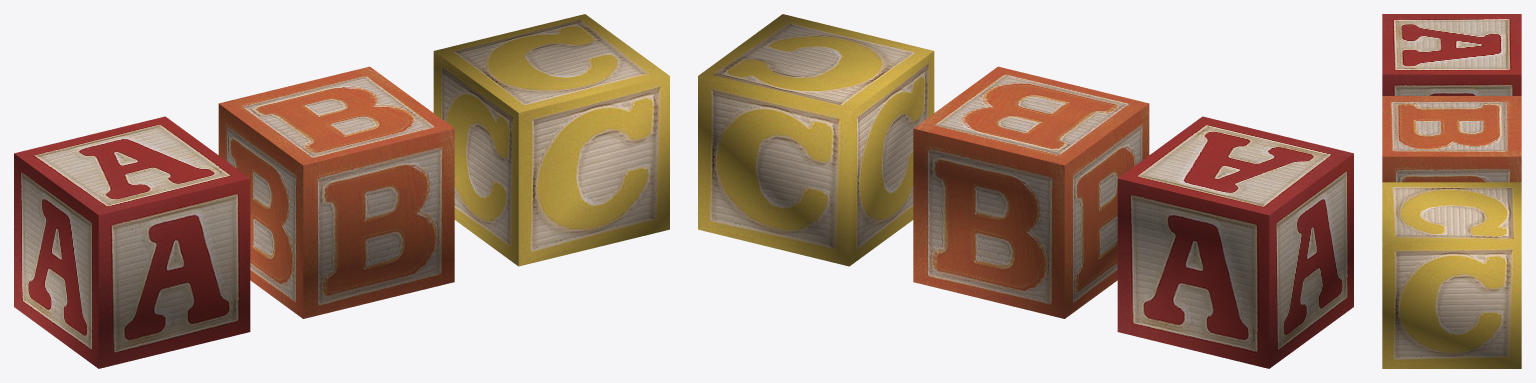
The model's file is toy_blocks.fbx.
The picture shows the model from 3 angles, left to right: view 1: azimuth 30°, elevation 25°; view 2: azimuth 150°, elevation 25°; view 3: azimuth 270°, elevation 25°; orthographic projection. The views are drawn at different scales.
Parts seen in each view (by area): view 1: toy_block_A, toy_block_C, toy_block_B; view 2: toy_block_A, toy_block_C, toy_block_B; view 3: toy_block_C, toy_block_B, toy_block_A.
Part boxes in pixels (<box>): toy_block_A: <box>14,116,250,368</box>; toy_block_C: <box>433,14,669,266</box>; toy_block_B: <box>218,66,454,318</box>; toy_block_A: <box>1117,116,1353,368</box>; toy_block_C: <box>698,14,934,266</box>; toy_block_B: <box>913,66,1149,318</box>; toy_block_C: <box>1382,182,1521,368</box>; toy_block_B: <box>1382,96,1521,182</box>; toy_block_A: <box>1382,14,1521,95</box>.
Size of the model in its own units: 0.8919 by 0.2291 by 0.2291.
1 material, 1 textured.
